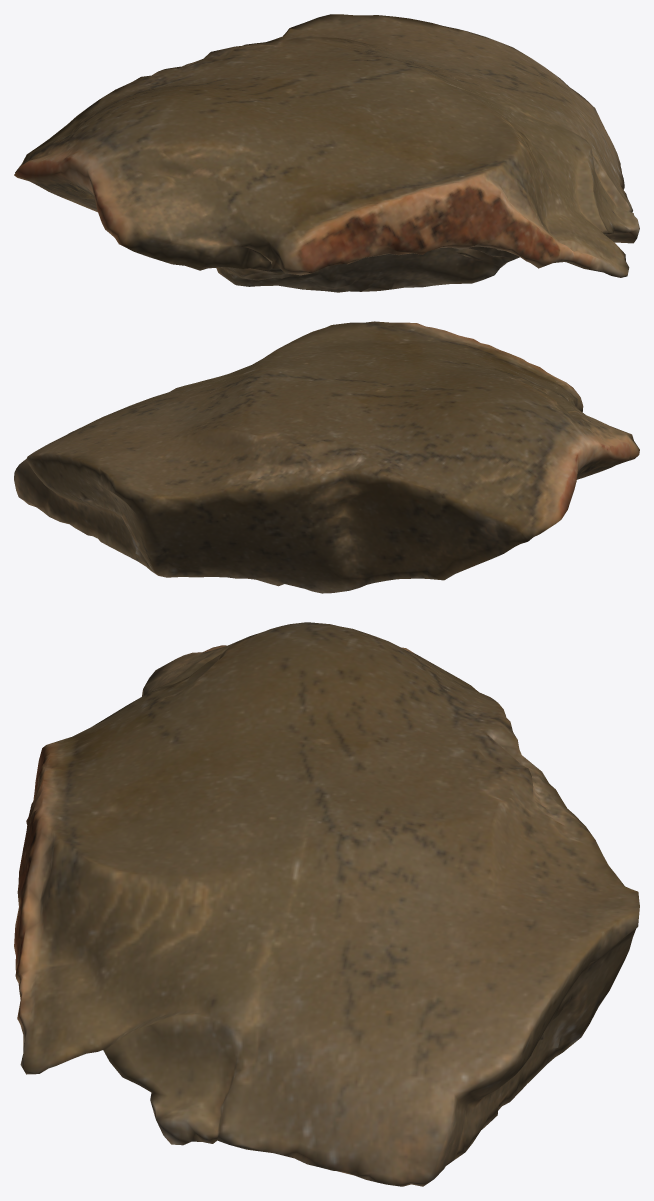
Rendered from namaqualand_stones_01_d.glb.
3 renders of one model, top to bottom at view 1: azimuth 30°, elevation 25°; view 2: azimuth 150°, elevation 25°; view 3: azimuth 270°, elevation 25°, orthographic. The views are drawn at different scales.
Visible parts, largest first — view 1: namaqualand_stones_01_d_LOD0; view 2: namaqualand_stones_01_d_LOD0; view 3: namaqualand_stones_01_d_LOD0.
Part boxes in pixels (x1=…): namaqualand_stones_01_d_LOD0: x1=14, y1=14, x2=639, y2=292; namaqualand_stones_01_d_LOD0: x1=14, y1=321, x2=639, y2=593; namaqualand_stones_01_d_LOD0: x1=14, y1=622, x2=639, y2=1186.
Bounding box in the file's own units: 0.1146 × 0.0368 × 0.0822.
Materials: 1 (1 with a texture image).
